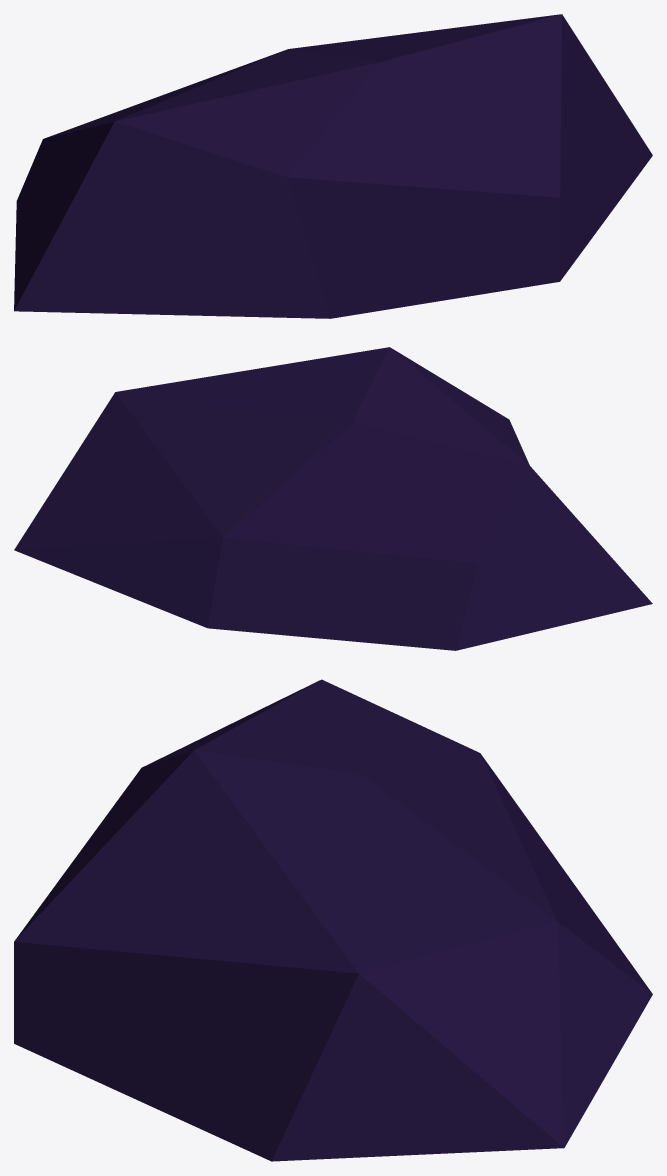
Rendered from stone_013_grp.fbx.
The picture shows the model from 3 angles, top to bottom: view 1: azimuth 30°, elevation 25°; view 2: azimuth 150°, elevation 25°; view 3: azimuth 270°, elevation 25°; orthographic projection. The views are drawn at different scales.
Parts seen in each view (by area): view 1: stone_013_grp; view 2: stone_013_grp; view 3: stone_013_grp.
Boxes of the visible parts, bbox=[...] form: stone_013_grp: bbox=[14, 14, 652, 318]; stone_013_grp: bbox=[14, 347, 652, 650]; stone_013_grp: bbox=[14, 679, 652, 1161].
Size of the model in its own units: 175 by 50 by 125.
